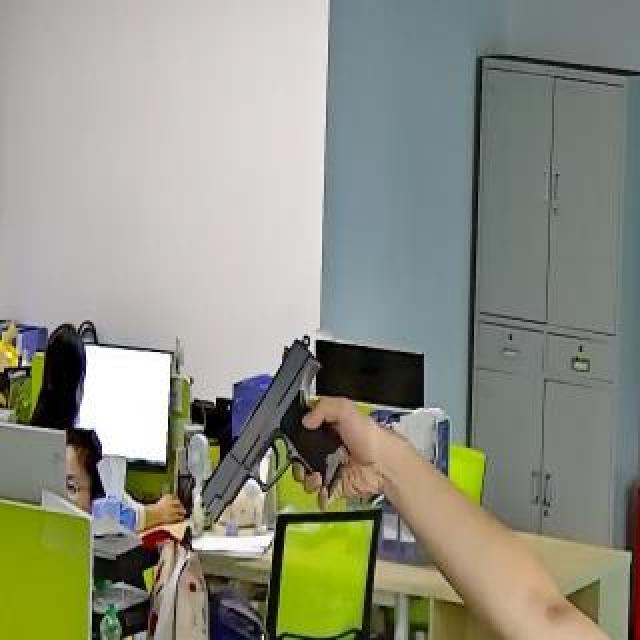Guns: (191, 314, 370, 548)
